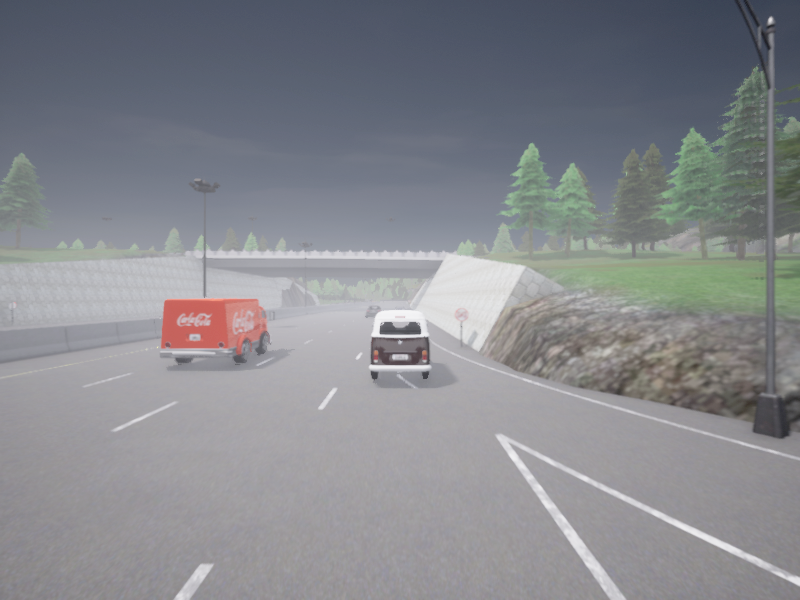vehicle: (159, 298, 274, 363), (369, 310, 431, 379), (366, 305, 382, 317), (395, 306, 404, 309)
